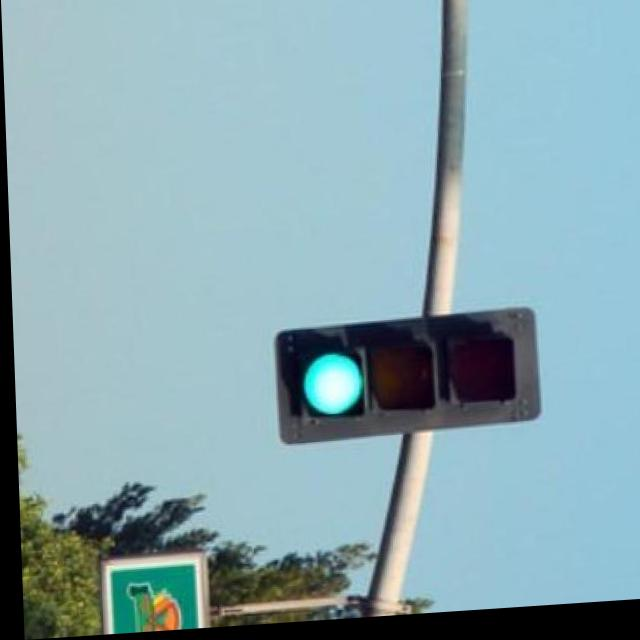green light: (280, 328, 517, 440)
